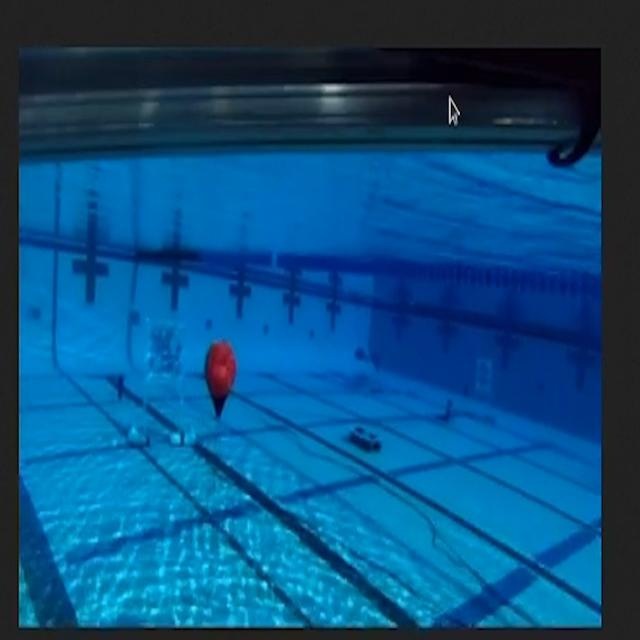Buoy: (192, 320, 248, 436)
